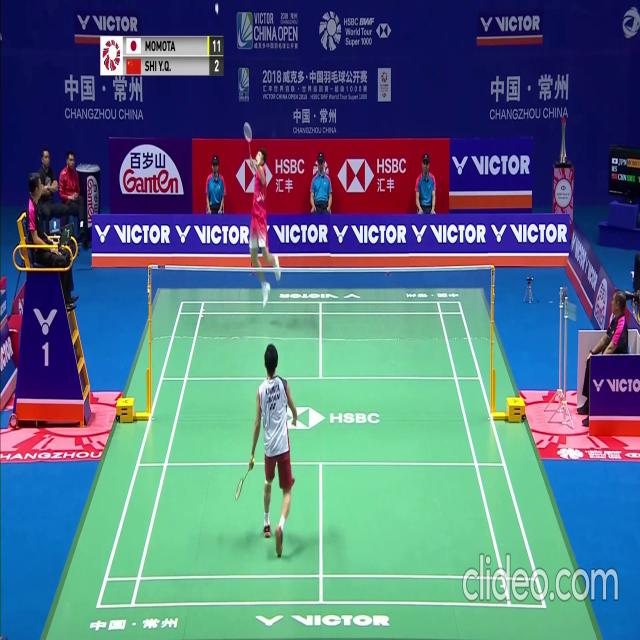Shuttlecock: (214, 8, 219, 16)
